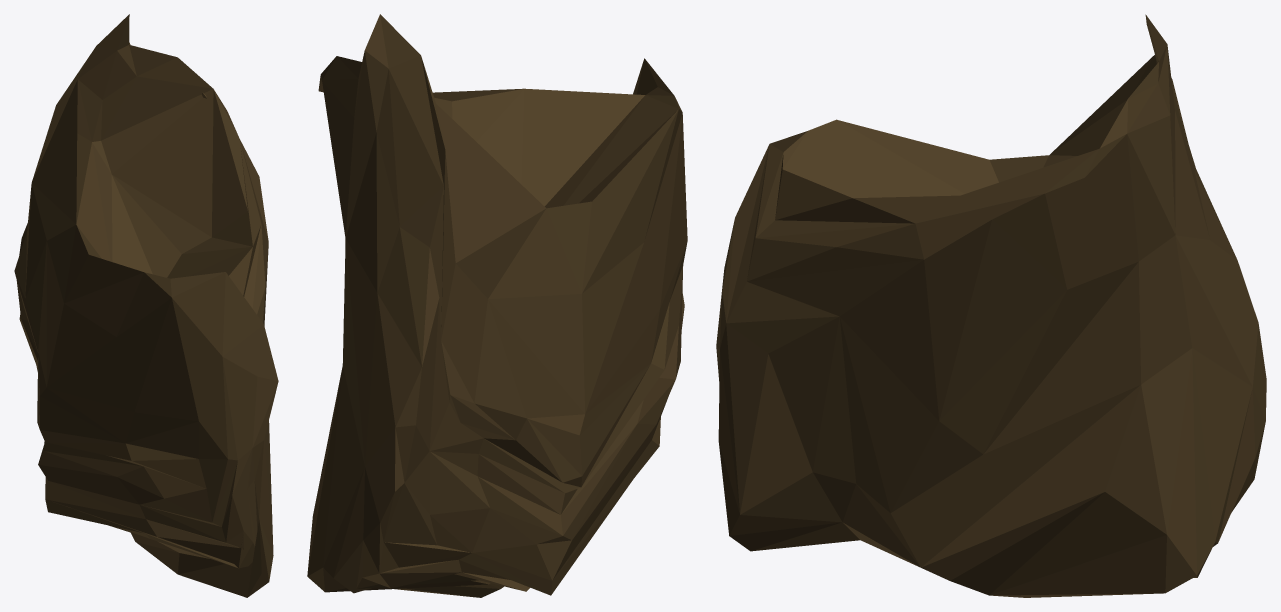
File: BigRock.fbx
The picture shows the model from 3 angles, left to right: view 1: azimuth 30°, elevation 25°; view 2: azimuth 150°, elevation 25°; view 3: azimuth 270°, elevation 25°; orthographic projection. The views are drawn at different scales.
Parts seen in each view (by area): view 1: Sphere; view 2: Sphere; view 3: Sphere.
Boxes of the visible parts, box(x1,y1,x2,y2) form: Sphere: box(14, 14, 278, 597); Sphere: box(307, 14, 687, 597); Sphere: box(716, 14, 1266, 597).
Size of the model in its own units: 8874 by 20944 by 17336.
